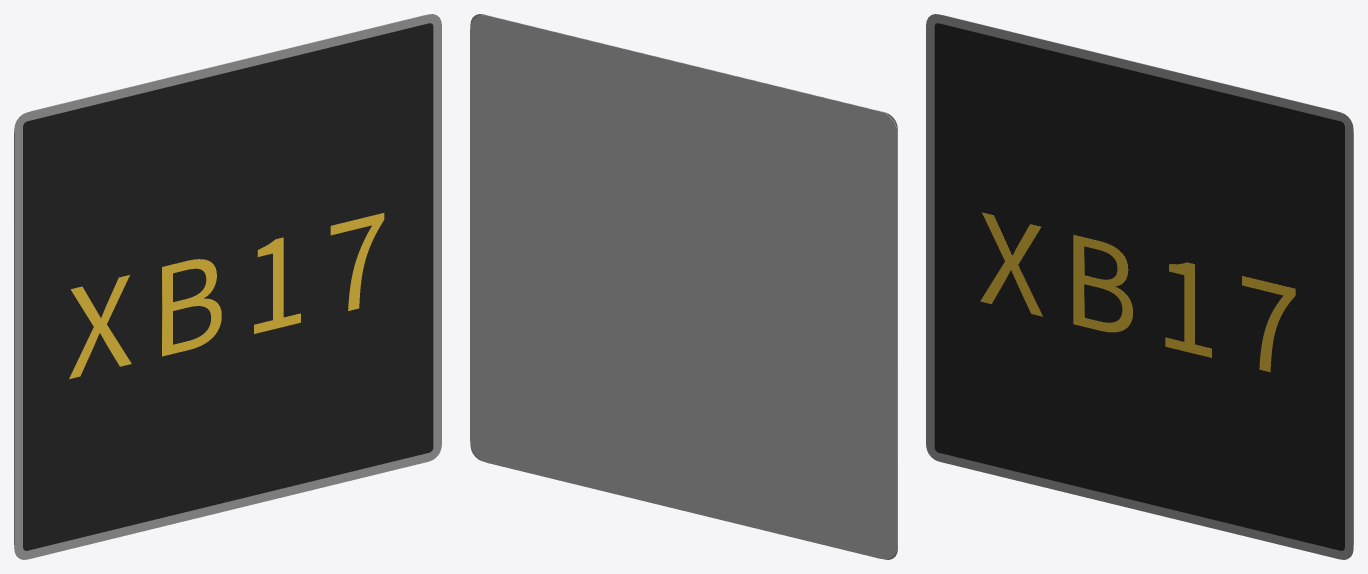
3 renders of one model, left to right at view 1: azimuth 30°, elevation 25°; view 2: azimuth 150°, elevation 25°; view 3: azimuth 330°, elevation 25°, orthographic.
Parts seen in each view (by area): view 1: XB17_fond01, XB17_cadre00, XB17_txt02, XB17_dos; view 2: XB17_dos, XB17_cadre00; view 3: XB17_fond01, XB17_cadre00, XB17_txt02, XB17_dos.
Part boxes in pixels (x1,y1,x2,y2): XB17_fond01: (23, 23, 433, 550); XB17_cadre00: (14, 14, 441, 559); XB17_txt02: (69, 213, 384, 378); XB17_dos: (14, 15, 424, 544); XB17_dos: (470, 15, 897, 559); XB17_cadre00: (470, 14, 897, 559); XB17_fond01: (934, 23, 1344, 550); XB17_cadre00: (926, 14, 1353, 559); XB17_txt02: (980, 212, 1295, 372); XB17_dos: (943, 15, 1353, 544).
Bounding box in the file's own units: 1 × 1 × 0.0025.
